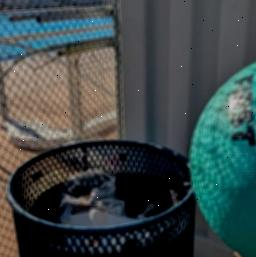algae: (189, 46, 256, 257)
